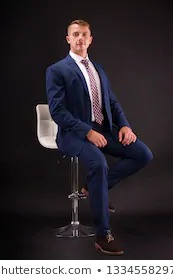F_M_suit jacket: (42, 55, 131, 138)
F_dress pants: (51, 136, 156, 234)
F_tie: (79, 60, 104, 130)
